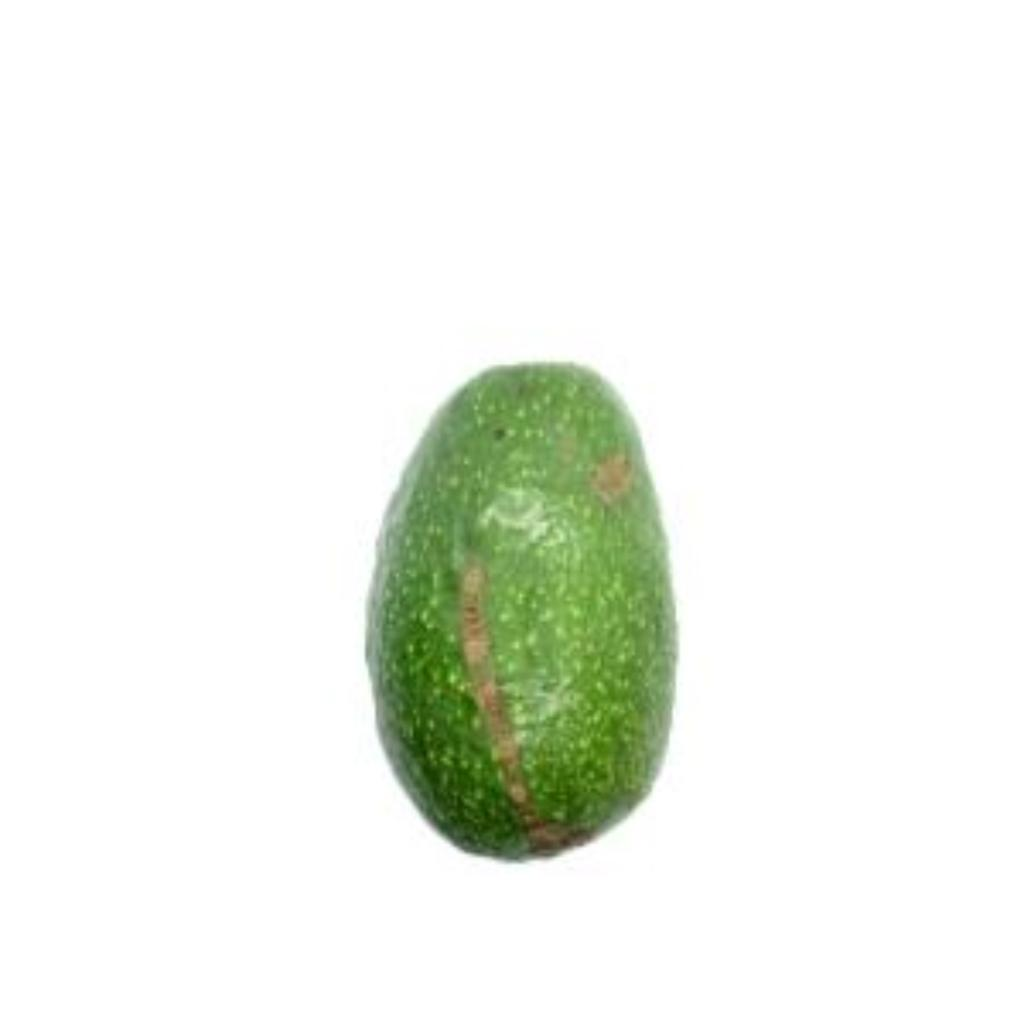cercospora_spot: (374, 350, 680, 872)
